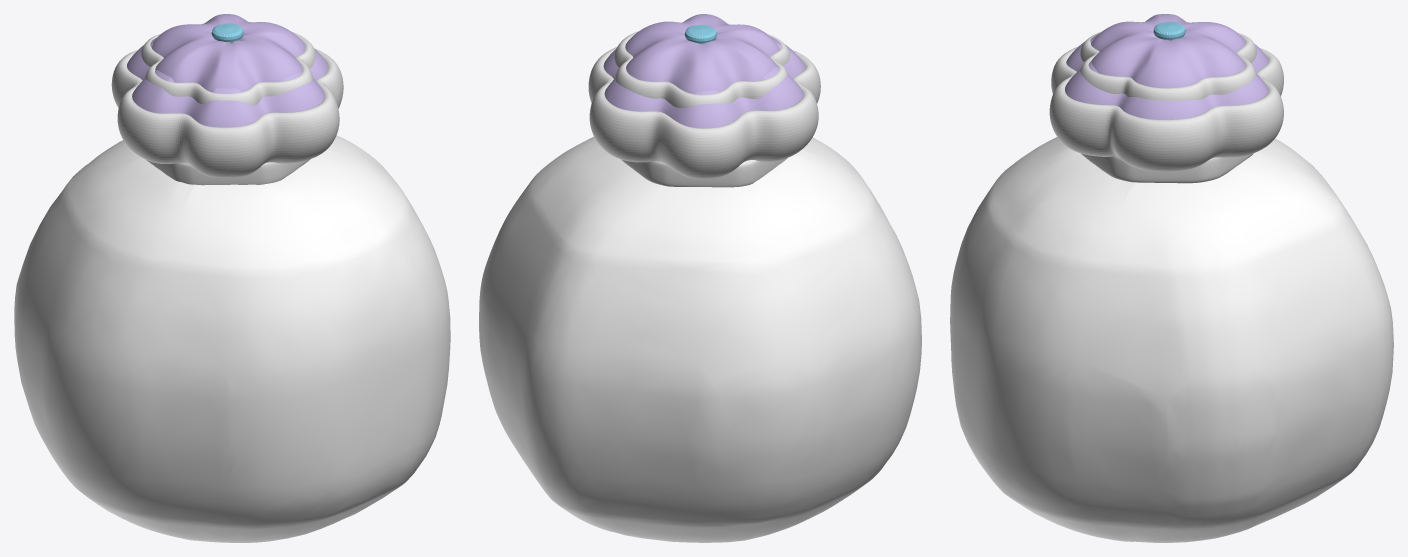
The model's file is puffy23.glb.
The picture shows the model from 3 angles, left to right: view 1: azimuth 30°, elevation 25°; view 2: azimuth 150°, elevation 25°; view 3: azimuth 270°, elevation 25°; orthographic projection.
Parts seen in each view (by area): view 1: Cylinder.045, Plane.089, Plane.091, Plane.090, Plane.092, Cylinder.015; view 2: Cylinder.045, Plane.089, Plane.091, Plane.090, Plane.092, Cylinder.015; view 3: Cylinder.045, Plane.089, Plane.091, Plane.090, Plane.092, Cylinder.015.
Boxes of the visible parts, left/top/right/bottom form: Cylinder.045: left=14, top=135, right=450, bottom=542; Plane.089: left=111, top=48, right=343, bottom=177; Plane.091: left=152, top=14, right=305, bottom=91; Plane.090: left=127, top=38, right=328, bottom=127; Plane.092: left=141, top=22, right=315, bottom=105; Cylinder.015: left=146, top=159, right=310, bottom=185; Cylinder.045: left=479, top=136, right=921, bottom=542; Plane.089: left=588, top=47, right=820, bottom=179; Plane.091: left=625, top=14, right=779, bottom=93; Plane.090: left=603, top=37, right=805, bottom=128; Plane.092: left=614, top=23, right=789, bottom=107; Cylinder.015: left=621, top=158, right=787, bottom=187; Cylinder.045: left=950, top=137, right=1393, bottom=542; Plane.089: left=1049, top=47, right=1283, bottom=171; Plane.091: left=1091, top=14, right=1245, bottom=87; Plane.090: left=1065, top=33, right=1268, bottom=119; Plane.092: left=1080, top=31, right=1256, bottom=100; Cylinder.015: left=1081, top=153, right=1253, bottom=183.
Bounding box in the file's own units: 80.33 × 96.91 × 80.95.
